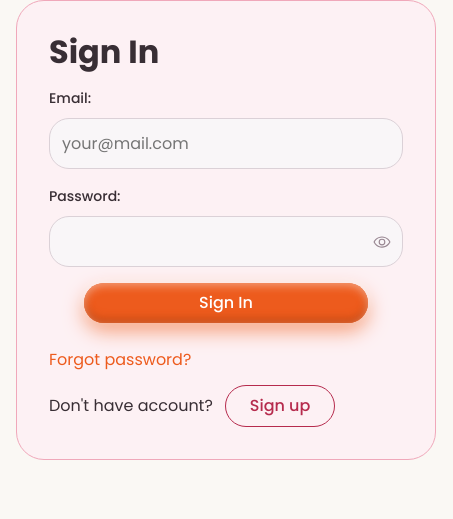
Test: Login › shows error message on failed sign-in
Step 1. Type "test@test.com" into the field labelled "Email:" → x=226, y=144, box [49, 118, 403, 169]
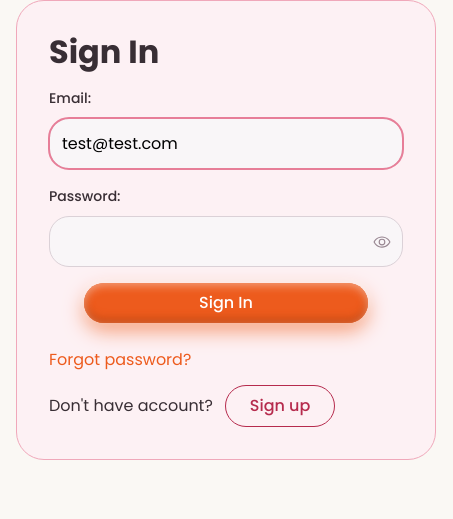
Step 2. Type "password123" into the password field labelled "Password:" → x=226, y=242, box [49, 216, 403, 267]
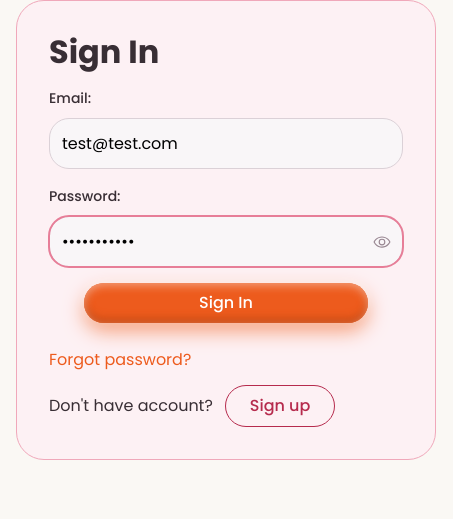
Step 3. Click the button "Sign In" → x=226, y=303, box [84, 283, 368, 323]
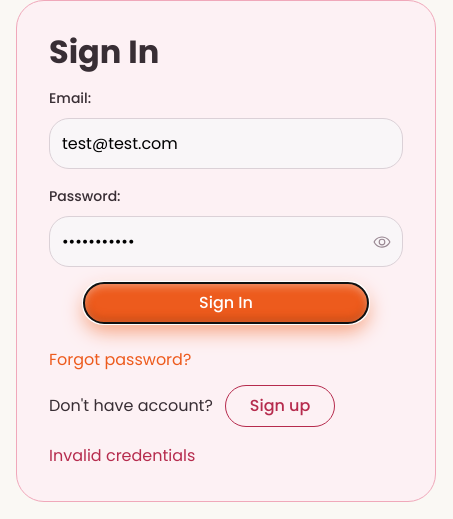
Expected: the text "Invalid credentials" is shown, [49, 444, 195, 467]
